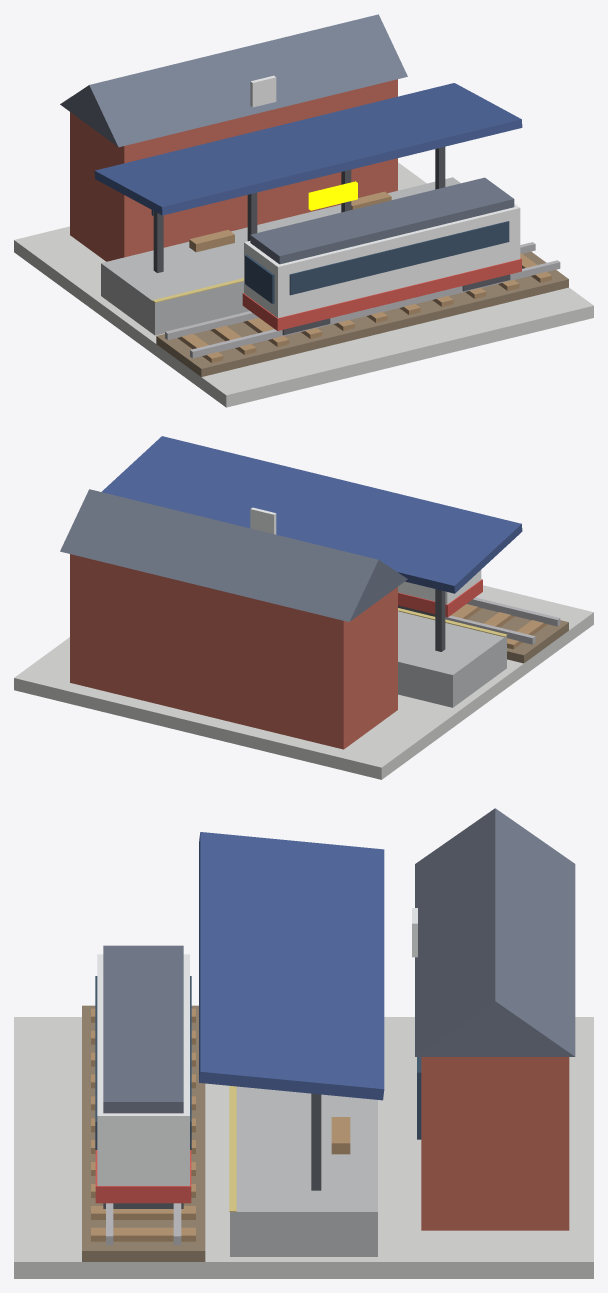
The model's file is train_station.glb.
The picture shows the model from 3 angles, top to bottom: view 1: azimuth 30°, elevation 25°; view 2: azimuth 150°, elevation 25°; view 3: azimuth 270°, elevation 25°; orthographic projection. The views are drawn at different scales.
Parts seen in each view (by area): view 1: train_station_body; view 2: train_station_body; view 3: train_station_body.
Boxes of the visible parts, <box> form: train_station_body: <box>14,14,593,407</box>; train_station_body: <box>14,436,593,779</box>; train_station_body: <box>14,808,593,1278</box>.
Bounding box in the file's own units: 0.94 × 0.45 × 0.94.
